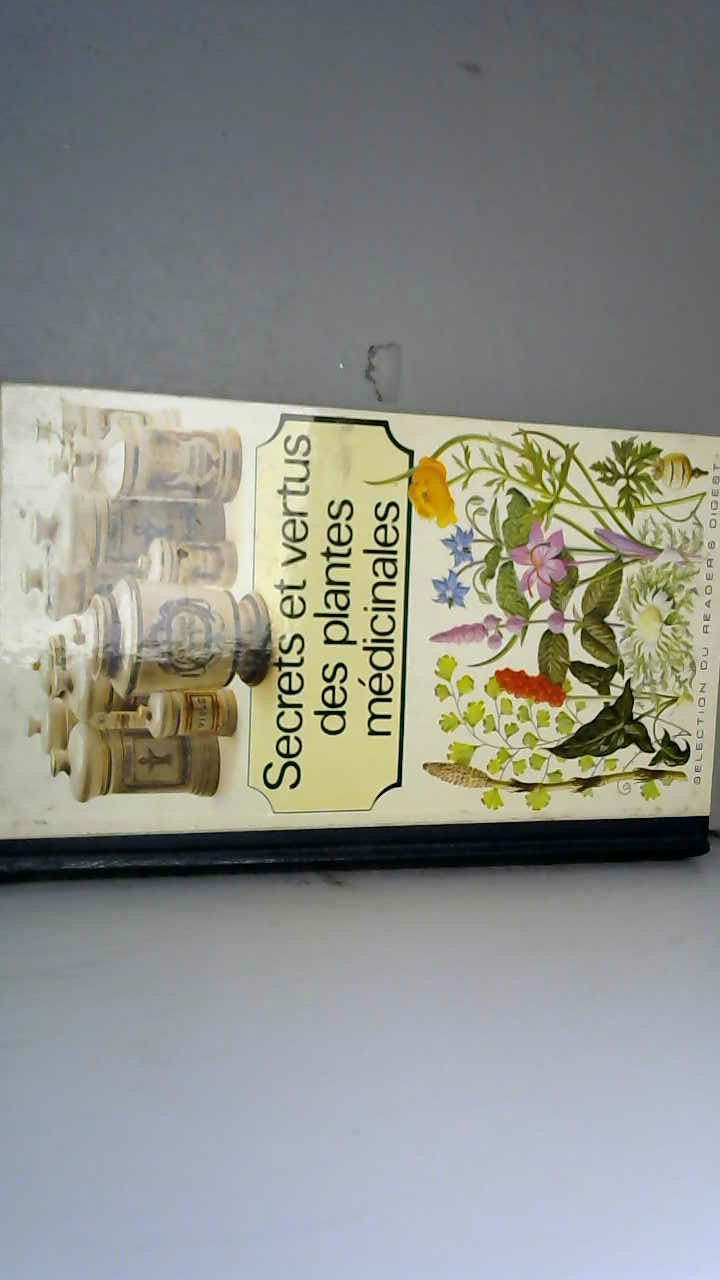book: (0, 366, 720, 909)
